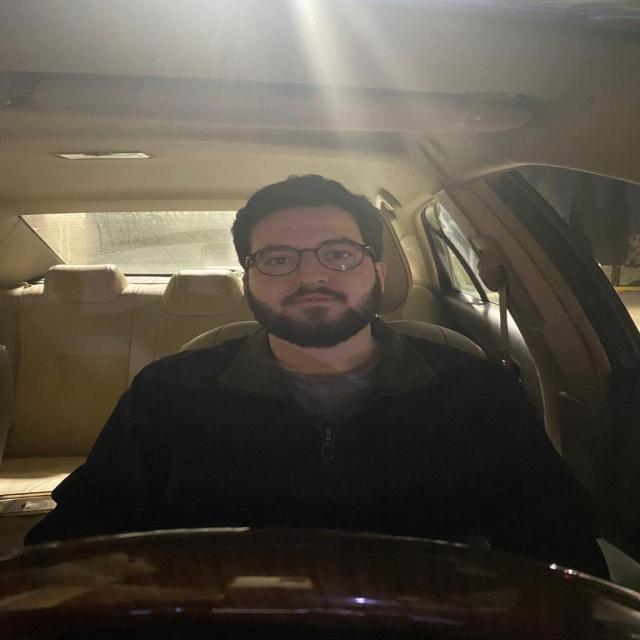person: (227, 162, 404, 360)
